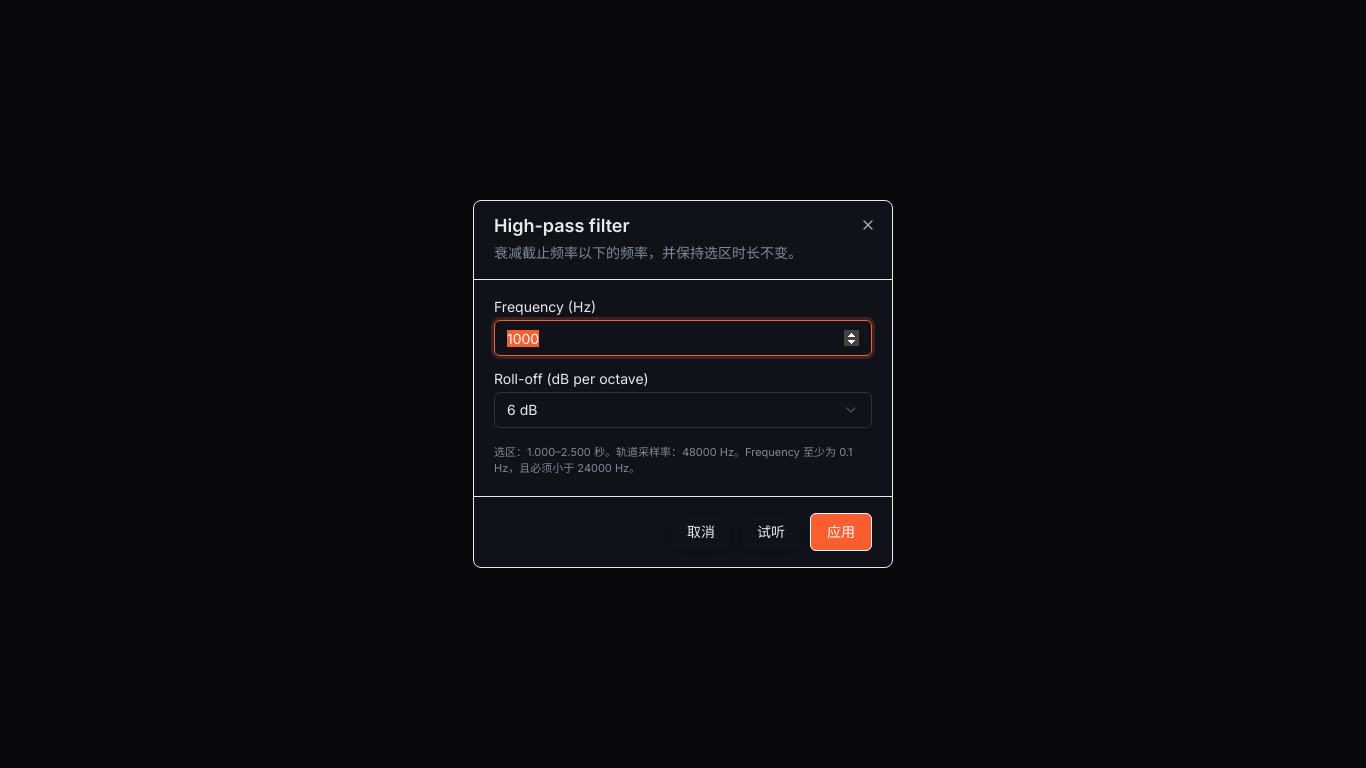
PassFilterDialog › renders the official High-pass filter controls and defaults
Expected: the heading "High-pass filter" is shown, [494,215,630,236]
Expected: the number field labelled "Frequency (Hz)" holds "1000", [494,320,872,356]
Click the dropdown named "Roll-off (dB per octave)": (511, 410) [494,392,872,428]
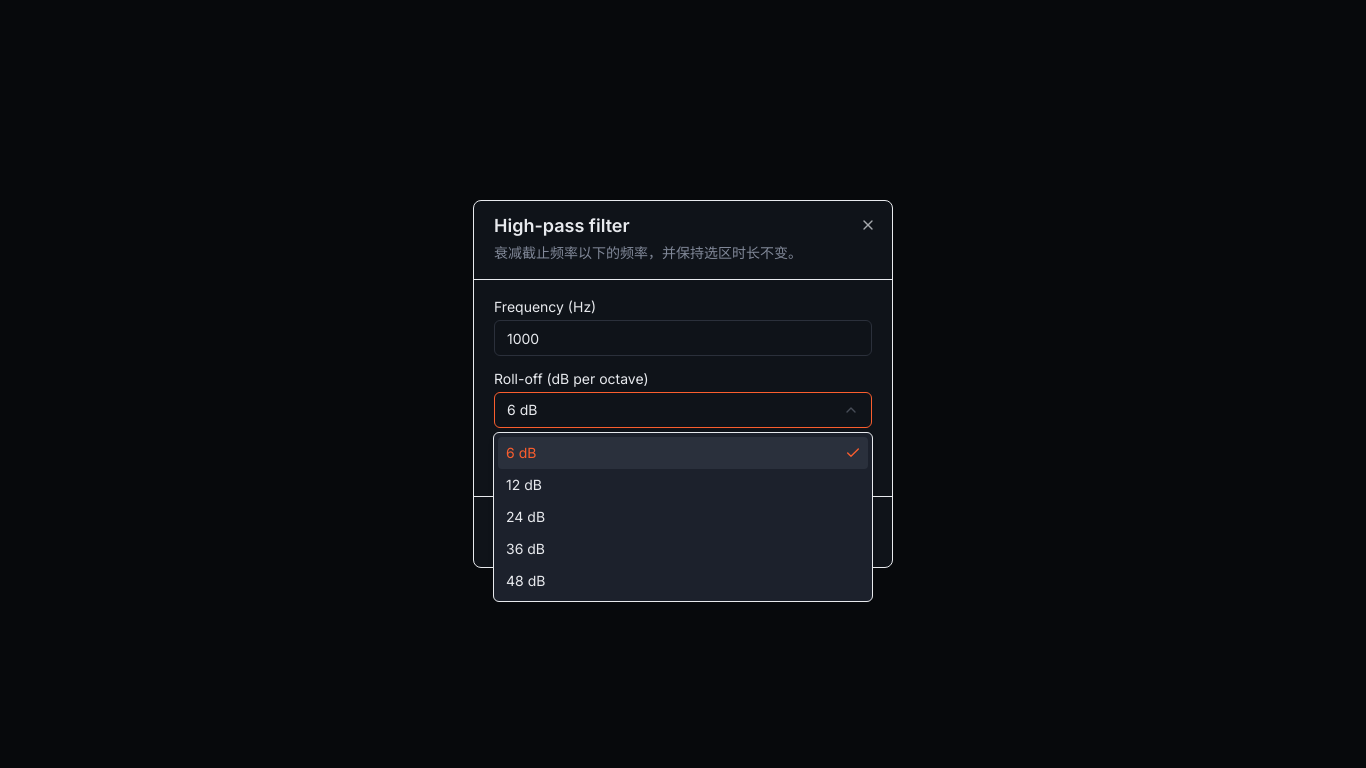
Expected: the option "6 dB" is shown, [498,437,868,469]
Expected: the option "12 dB" is shown, [506,476,542,493]
Expected: the option "24 dB" is shown, [506,508,545,525]
